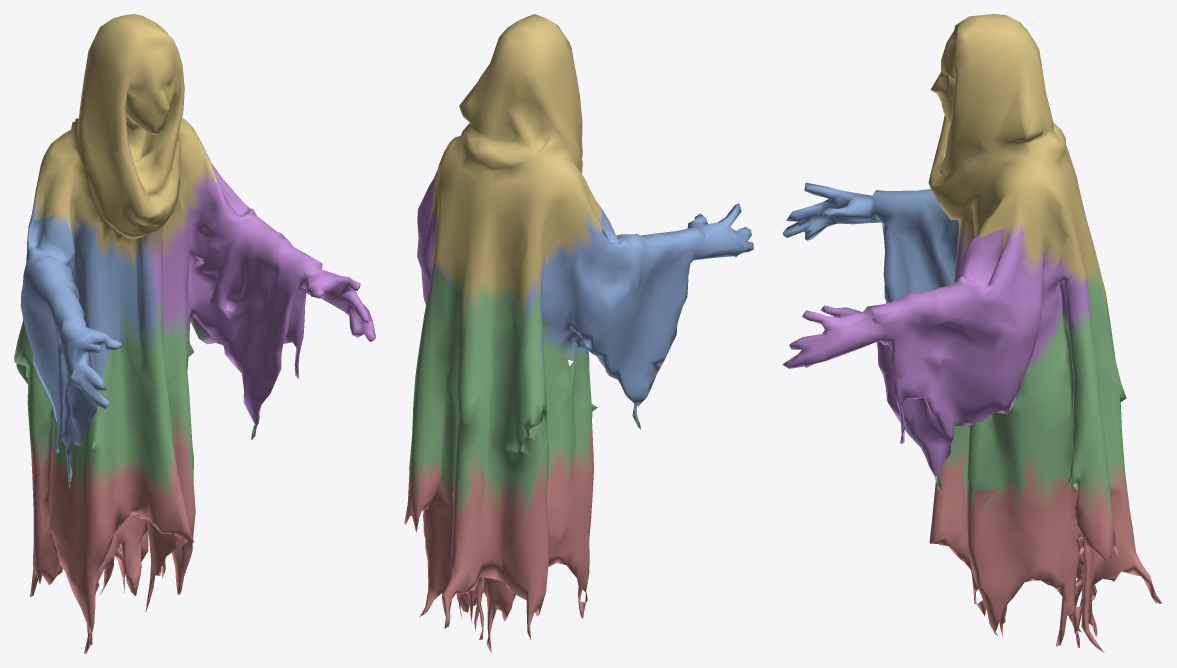
Rendered from ghost_3d2.glb.
3 renders of one model, left to right at view 1: azimuth 30°, elevation 25°; view 2: azimuth 150°, elevation 25°; view 3: azimuth 270°, elevation 25°, orthographic. The views are drawn at different scales.
Parts seen in each view (by area): view 1: world; view 2: world; view 3: world.
Part boxes in pixels (x1,y1,x2,y2): world: [14, 14, 375, 653]; world: [404, 14, 753, 653]; world: [782, 14, 1162, 652].
Size of the model in its own units: 0.9476 by 1.95 by 1.05.
